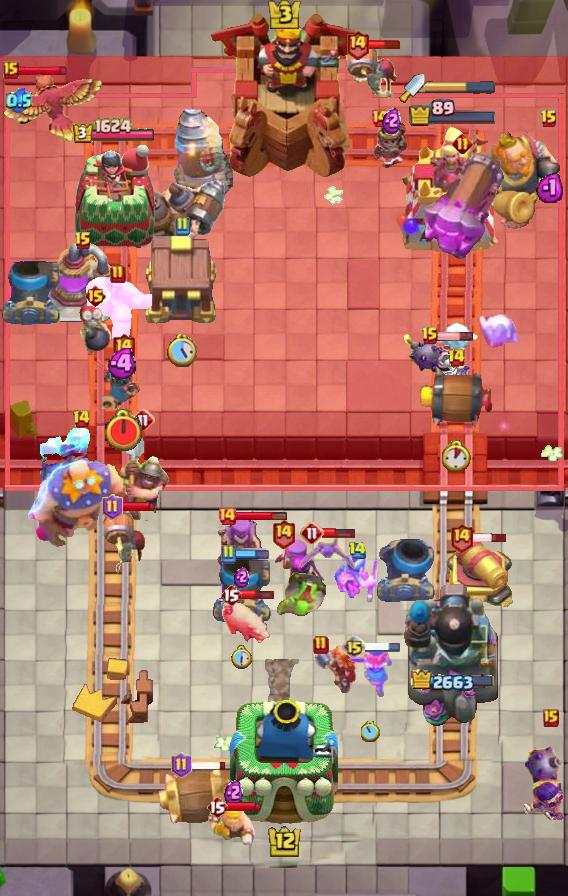bar: (17, 64, 68, 77), (235, 511, 288, 522), (365, 641, 402, 654), (240, 588, 275, 601), (471, 532, 508, 544), (226, 801, 262, 813), (234, 548, 270, 560), (120, 501, 156, 513), (190, 760, 227, 771), (437, 331, 474, 342), (322, 527, 355, 539), (367, 39, 401, 50)
bar-level: (449, 522, 474, 553), (271, 518, 296, 549), (111, 332, 136, 363), (345, 29, 370, 60), (342, 635, 366, 659), (300, 521, 324, 545), (131, 408, 155, 432), (84, 284, 107, 308), (171, 752, 192, 778), (102, 494, 123, 520), (206, 795, 228, 819), (220, 583, 242, 607), (452, 133, 473, 154), (217, 506, 237, 526), (370, 108, 390, 128), (72, 409, 91, 429), (447, 348, 466, 368), (348, 541, 367, 560), (421, 326, 439, 346), (74, 231, 92, 251), (540, 109, 558, 129), (313, 635, 329, 655), (220, 544, 236, 564), (110, 264, 126, 284), (174, 216, 190, 236), (543, 709, 559, 727), (3, 61, 19, 79)
barbarian: (206, 804, 260, 850)
barbarian-barrel: (155, 764, 239, 826), (416, 368, 496, 428)
bat-evolution: (296, 536, 356, 574)
bomber: (77, 301, 113, 359)
bomber-evolution: (400, 332, 484, 402), (520, 729, 568, 825)
cannoneer-tower: (402, 579, 504, 731)
clock: (103, 408, 144, 453), (167, 334, 197, 367), (442, 440, 471, 472), (230, 645, 252, 669), (361, 721, 380, 742)
dagger-duchess-tower: (394, 126, 512, 256)
dagger-duchess-tower-bar: (425, 81, 495, 95)
dirt: (262, 659, 300, 705)
elixir: (107, 348, 140, 379), (536, 171, 563, 203), (6, 88, 32, 114), (224, 779, 243, 806), (382, 107, 401, 134), (234, 566, 249, 588)
goblin-ball: (273, 571, 327, 619)
golemite: (84, 275, 152, 347)
hog: (221, 596, 273, 646)
ice-spirit: (436, 321, 478, 357)
ice-spirit-evolution: (476, 310, 522, 352)
king-tower: (205, 11, 363, 181), (230, 698, 338, 826)
little-prince: (371, 123, 411, 171)
miner: (116, 433, 170, 521)
mortar: (211, 559, 271, 623), (375, 538, 435, 602), (0, 261, 60, 325)
mother-witch: (273, 538, 327, 600), (214, 514, 264, 574)
queen-tower: (71, 145, 157, 256)
rascal-girl: (102, 357, 144, 409)
spear-goblin: (333, 554, 381, 606)
tower-bar: (408, 99, 498, 127), (72, 118, 156, 145), (411, 669, 496, 694)
valkyrie: (346, 645, 394, 699), (312, 645, 360, 695)
wall-breaker: (343, 42, 399, 100), (100, 510, 148, 576)
